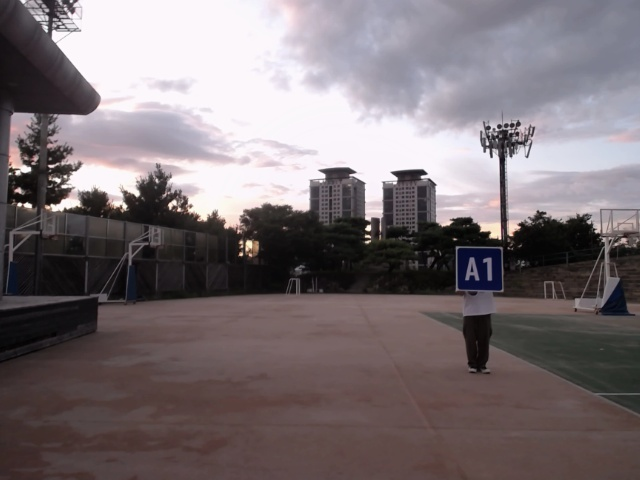delivery_a1: (457, 247, 503, 292)
